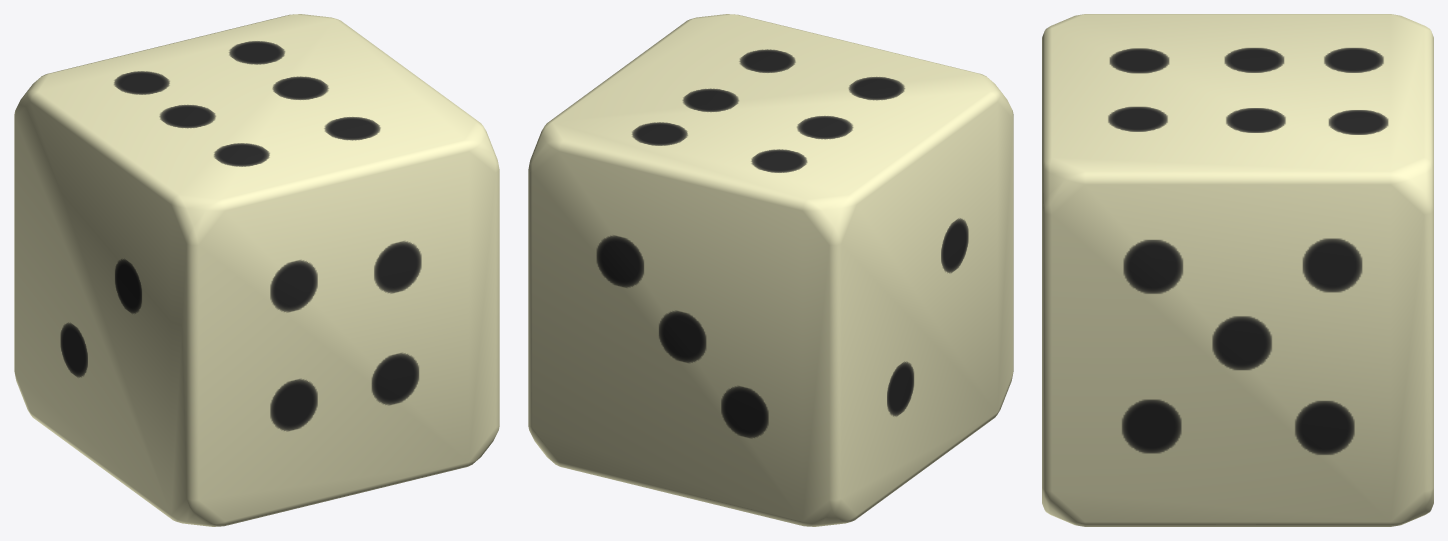
The model's file is D6_Precision.fbx.
3 views of the same model, side by side, from view 1: azimuth 30°, elevation 25°; view 2: azimuth 150°, elevation 25°; view 3: azimuth 270°, elevation 25° (orthographic). The views are drawn at different scales.
Visible parts, largest first — view 1: Cube; view 2: Cube; view 3: Cube.
Boxes of the visible parts, x1=… form: Cube: x1=14, y1=14, x2=499, y2=526; Cube: x1=528, y1=14, x2=1013, y2=526; Cube: x1=1042, y1=14, x2=1433, y2=526.
Bounding box in the file's own units: 200 × 200 × 200.
